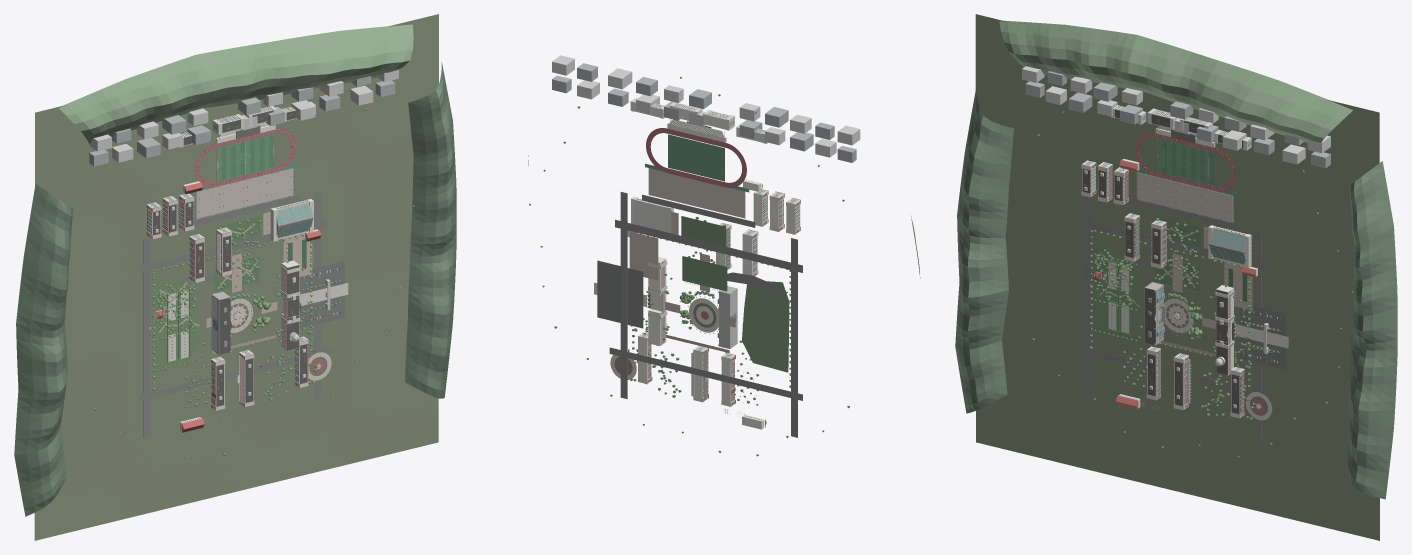
File: campus_unified_V113.glb
3 views of the same model, side by side, from view 1: azimuth 30°, elevation 25°; view 2: azimuth 150°, elevation 25°; view 3: azimuth 330°, elevation 25° (orthographic).
Visible parts, largest first — view 1: ground, mountain, mountain2, road, roof, offwhite, urban_dark, urban, white, court, grass2, road2 (+14 smaller); view 2: road, white, urban, offwhite, urban_dark, grass2, court, road2, grass, field, path_light, track (+6 smaller); view 3: ground, mountain, mountain2, road, roof, offwhite, urban_dark, urban, white, court, grass2, road2 (+14 smaller).
Boxes of the visible parts, x1=… form: ground: x1=34, y1=14, x2=438, y2=540; mountain: x1=14, y1=62, x2=456, y2=516; mountain2: x1=59, y1=24, x2=413, y2=143; road: x1=138, y1=192, x2=332, y2=438; roof: x1=153, y1=110, x2=307, y2=406; offwhite: x1=146, y1=101, x2=315, y2=410; urban_dark: x1=89, y1=76, x2=395, y2=166; urban: x1=89, y1=69, x2=398, y2=162; white: x1=147, y1=107, x2=318, y2=431; court: x1=196, y1=168, x2=292, y2=218; grass2: x1=152, y1=280, x2=199, y2=372; road2: x1=146, y1=242, x2=344, y2=392; road: x1=609, y1=192, x2=802, y2=437; white: x1=627, y1=102, x2=800, y2=429; urban: x1=552, y1=55, x2=860, y2=157; offwhite: x1=630, y1=98, x2=800, y2=406; urban_dark: x1=552, y1=63, x2=856, y2=162; grass2: x1=742, y1=281, x2=789, y2=372; court: x1=648, y1=168, x2=745, y2=218; road2: x1=597, y1=260, x2=643, y2=328; grass: x1=681, y1=216, x2=727, y2=291; field: x1=668, y1=134, x2=724, y2=181; path_light: x1=629, y1=211, x2=742, y2=327; track: x1=646, y1=128, x2=746, y2=187; ground: x1=975, y1=14, x2=1379, y2=540; mountain: x1=955, y1=86, x2=1397, y2=499; mountain2: x1=999, y1=20, x2=1352, y2=144; road: x1=1079, y1=196, x2=1272, y2=438; roof: x1=1082, y1=109, x2=1243, y2=414; offwhite: x1=1081, y1=105, x2=1251, y2=418; urban_dark: x1=1025, y1=71, x2=1330, y2=168; urban: x1=1022, y1=66, x2=1330, y2=164; white: x1=1082, y1=106, x2=1257, y2=414; court: x1=1137, y1=172, x2=1233, y2=222; grass2: x1=1093, y1=244, x2=1140, y2=339; road2: x1=1087, y1=248, x2=1285, y2=383.
Size of the model in its own units: 788 by 761 by 54.01.
